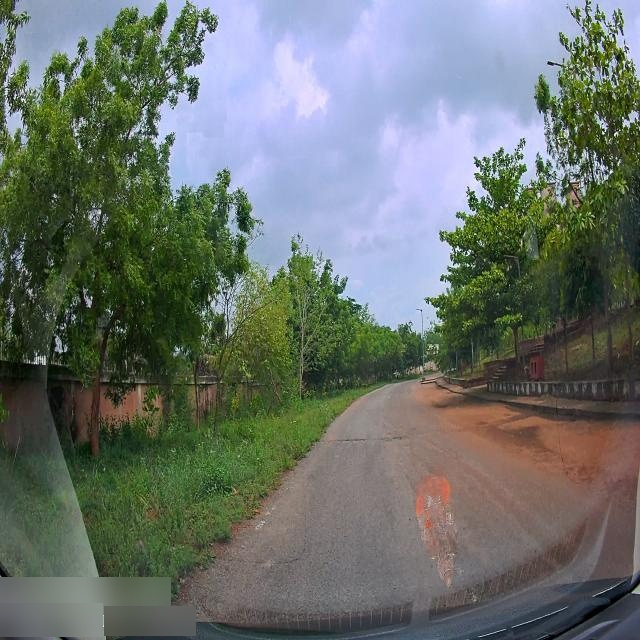pothole: (328, 432, 365, 448), (380, 430, 408, 446), (430, 401, 451, 412)
